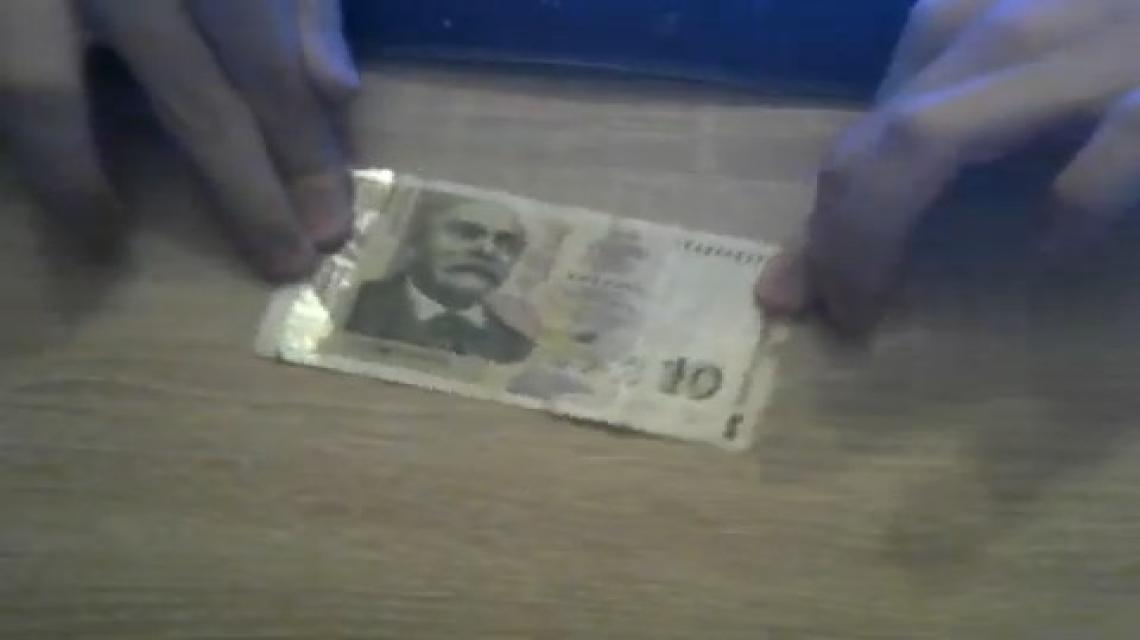10leva: (256, 169, 774, 455)
